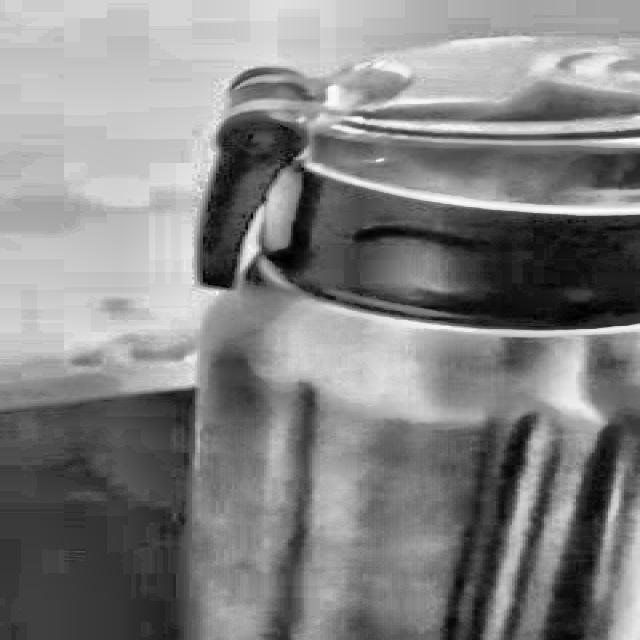bottle: (179, 36, 640, 640)
